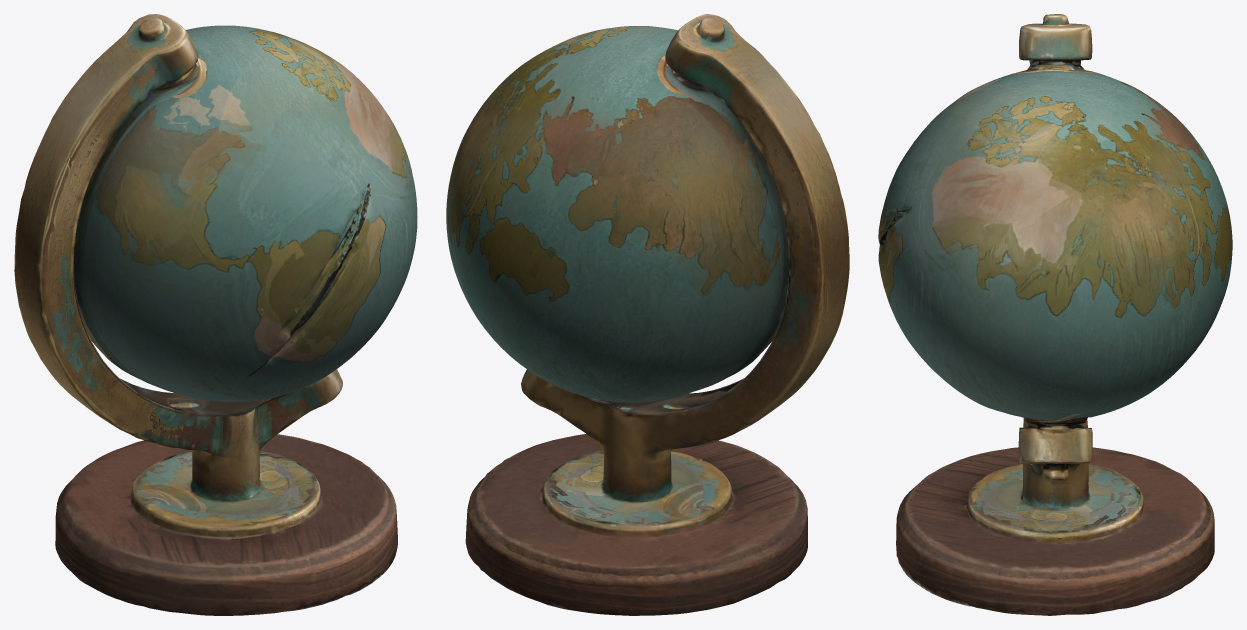
The model's file is Prop_Globe.fbx.
The picture shows the model from 3 angles, left to right: view 1: azimuth 30°, elevation 25°; view 2: azimuth 150°, elevation 25°; view 3: azimuth 270°, elevation 25°; orthographic projection. The views are drawn at different scales.
Visible parts, largest first — view 1: texture_mapping; view 2: texture_mapping; view 3: texture_mapping.
Part boxes in pixels (left/top/right/bottom): texture_mapping: left=14, top=14, right=417, bottom=615; texture_mapping: left=446, top=14, right=849, bottom=615; texture_mapping: left=878, top=14, right=1232, bottom=615.
Size of the model in its own units: 0.7071 by 0.6362 by 0.9999.
Materials: 1 (1 with a texture image).
